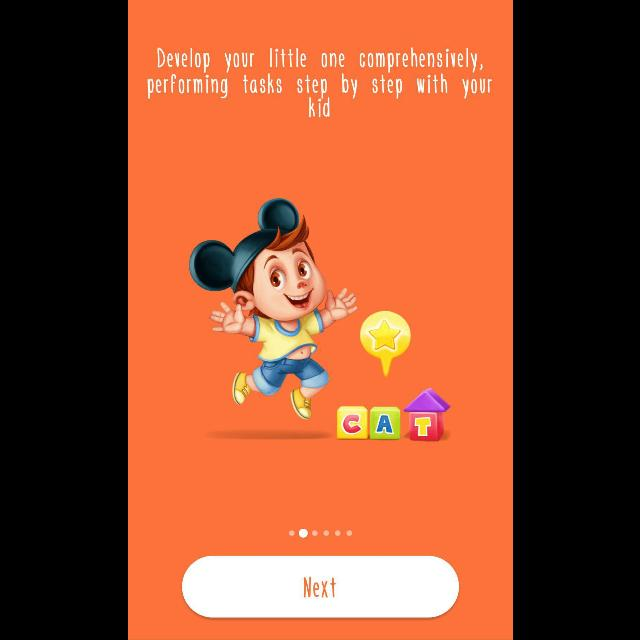image: (187, 198, 451, 442)
pageindicator: (288, 528, 352, 540)
text: (145, 46, 491, 118)
textbutton: (182, 556, 458, 618)
